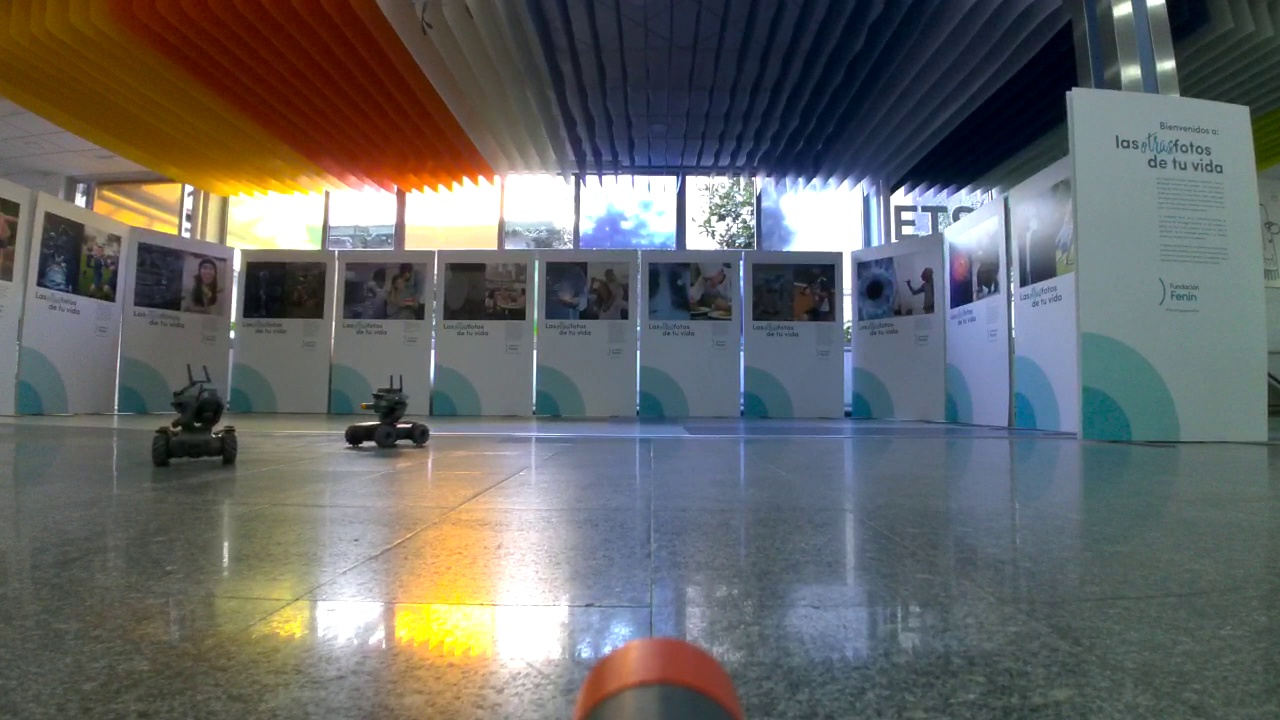robot: (152, 383, 236, 468), (347, 383, 428, 450)
